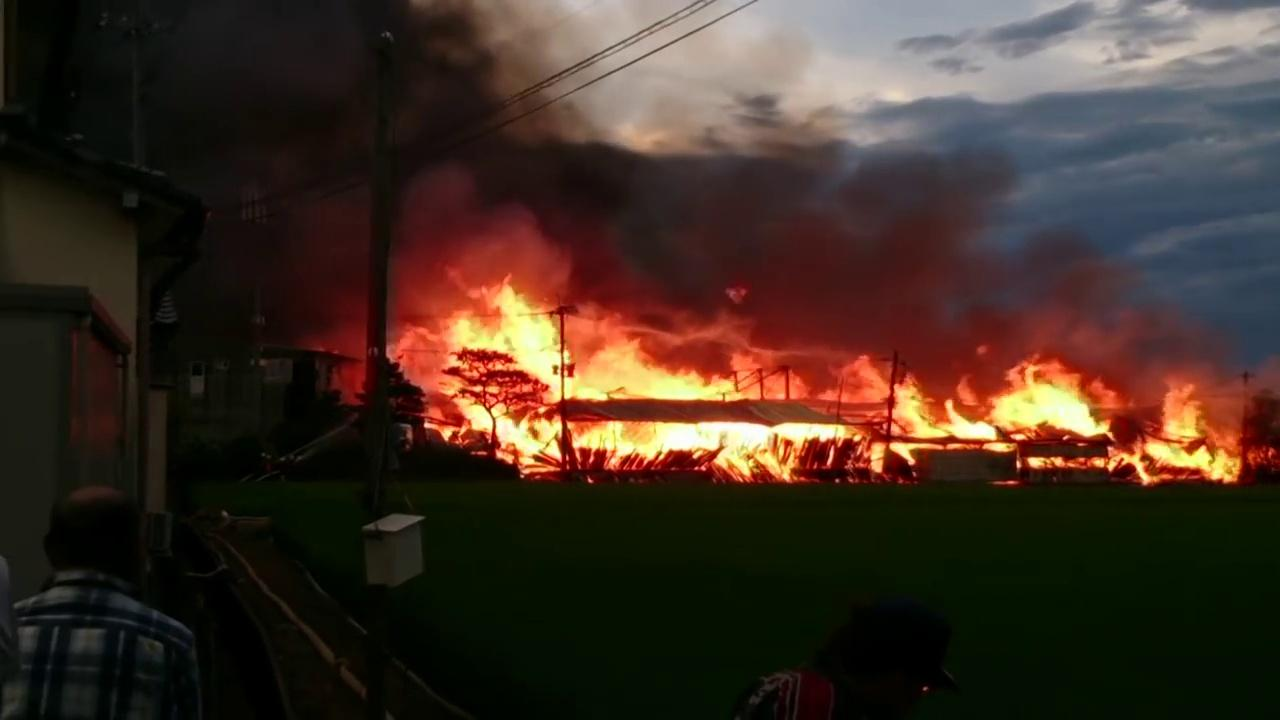fire: (383, 253, 1270, 489)
